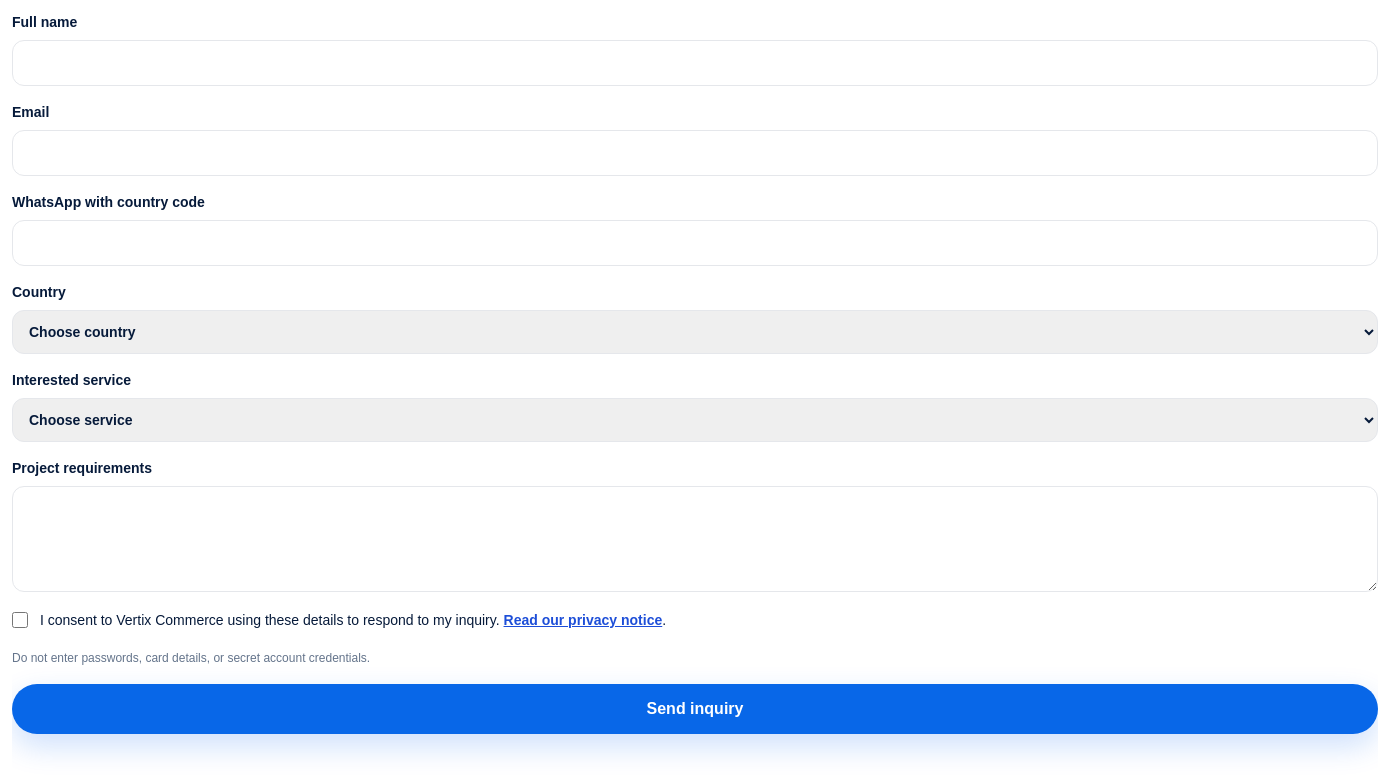
public inquiry form › handles network failure visibly and preserves fields for retry
Type "Fictional QA" into the field labelled "Full name".
click(695, 63); type("Fictional QA")  # box [12,40,1378,86]
Type "qa@example.invalid" into the field labelled "Email".
click(695, 153); type("qa@example.invalid")  # box [12,130,1378,176]
Type "+1 202 555 0100" into the field labelled "WhatsApp with country code".
click(695, 243); type("+1 202 555 0100")  # box [12,220,1378,266]
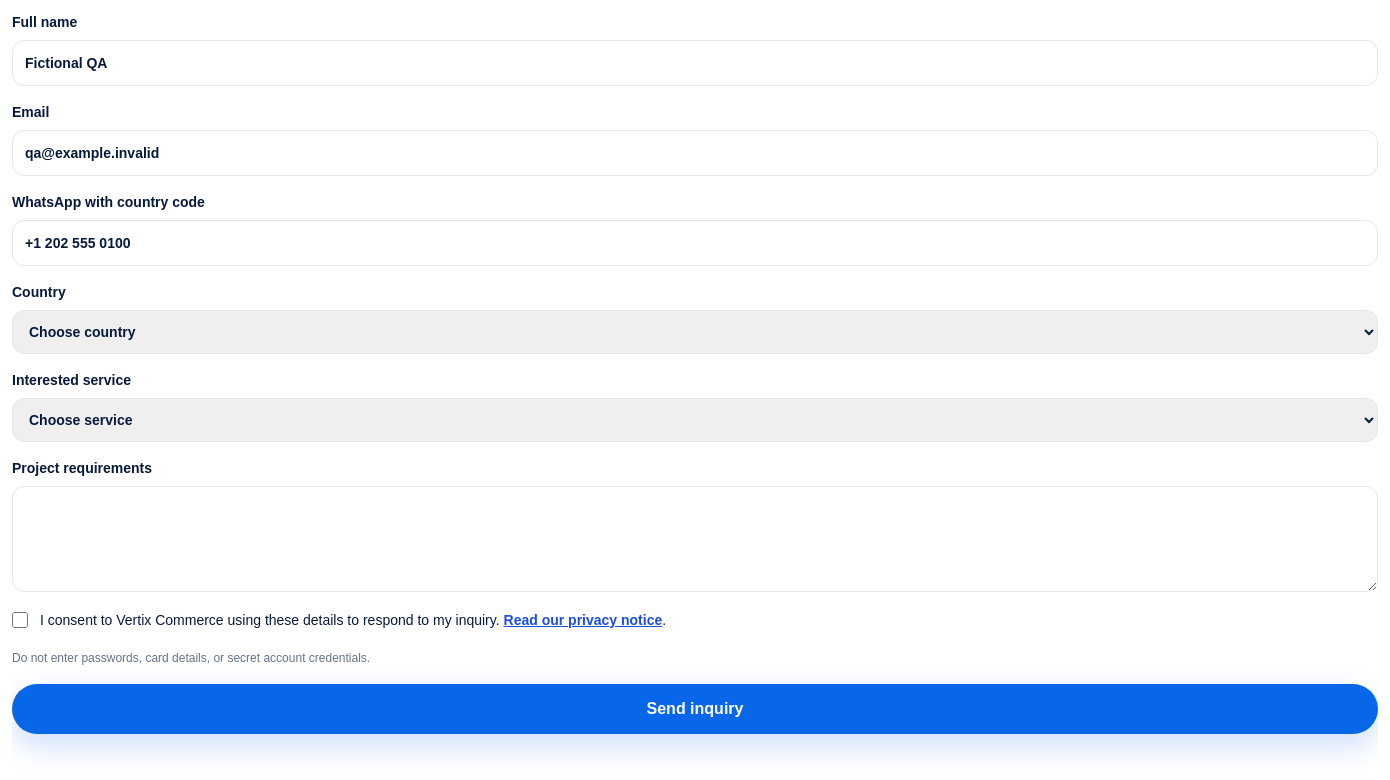
Select "Germany" in the dropdown labelled "Country" at {"x": 695, "y": 332}, box [12,310,1378,354]
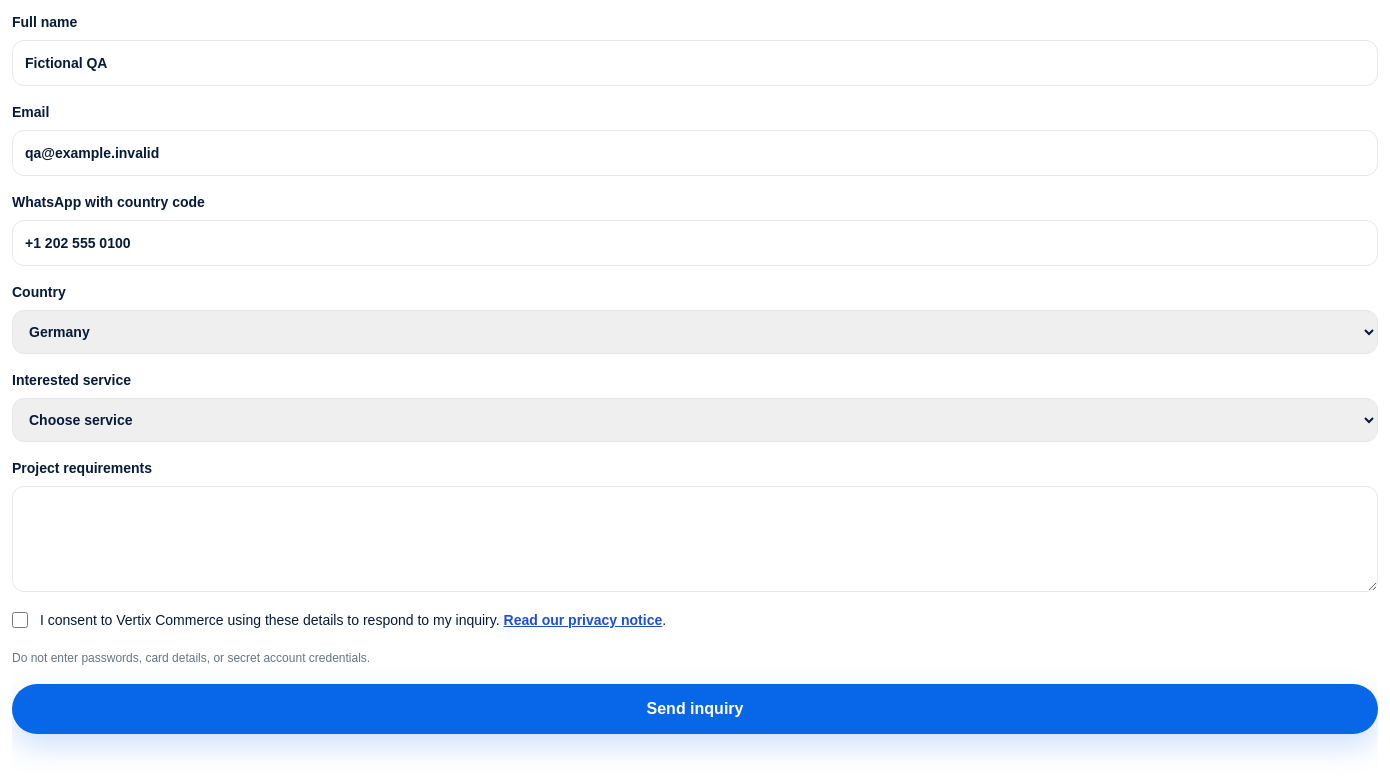
Select "Current CMS service" in the dropdown labelled "Interested service" at {"x": 695, "y": 420}, box [12,398,1378,442]
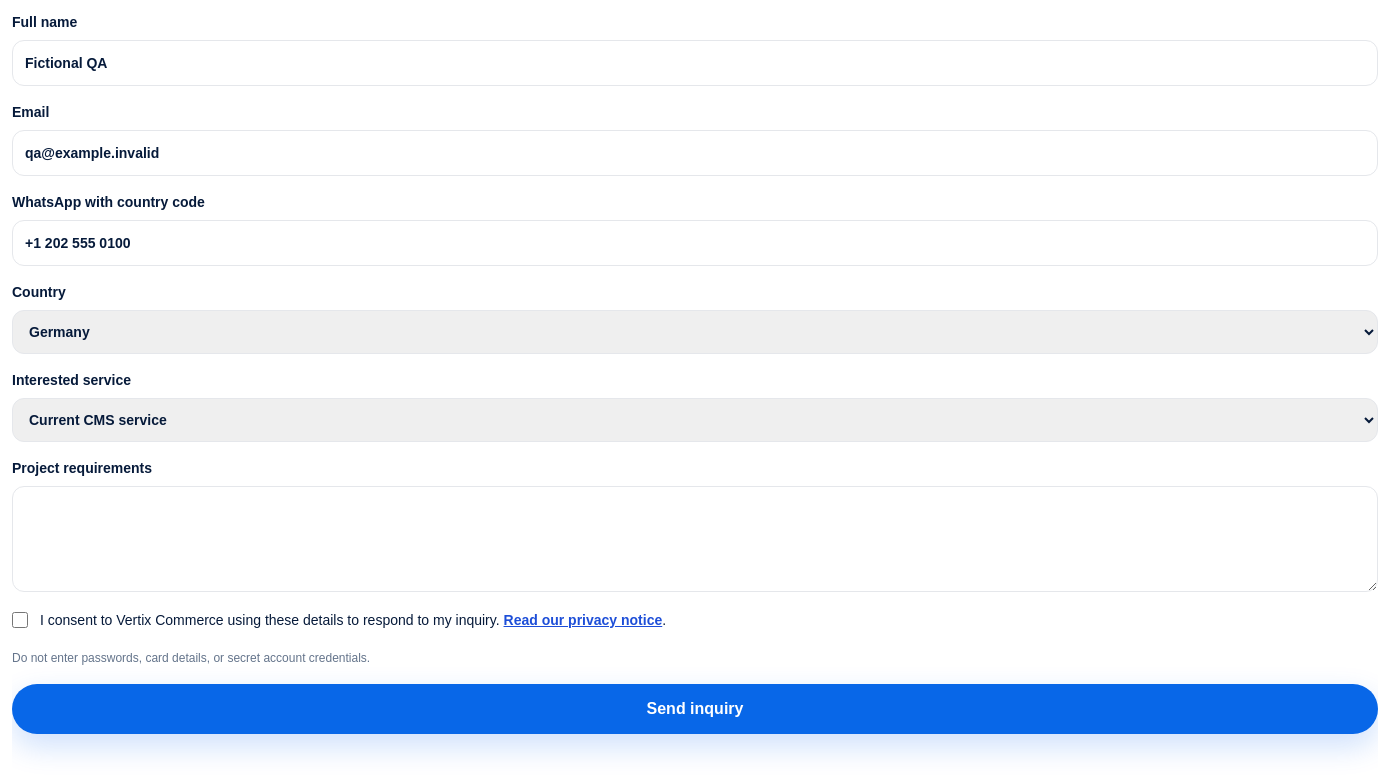
Type "Fictional QA requirements." into the text box labelled "Project requirements".
click(695, 539); type("Fictional QA requirements.")  # box [12,486,1378,592]
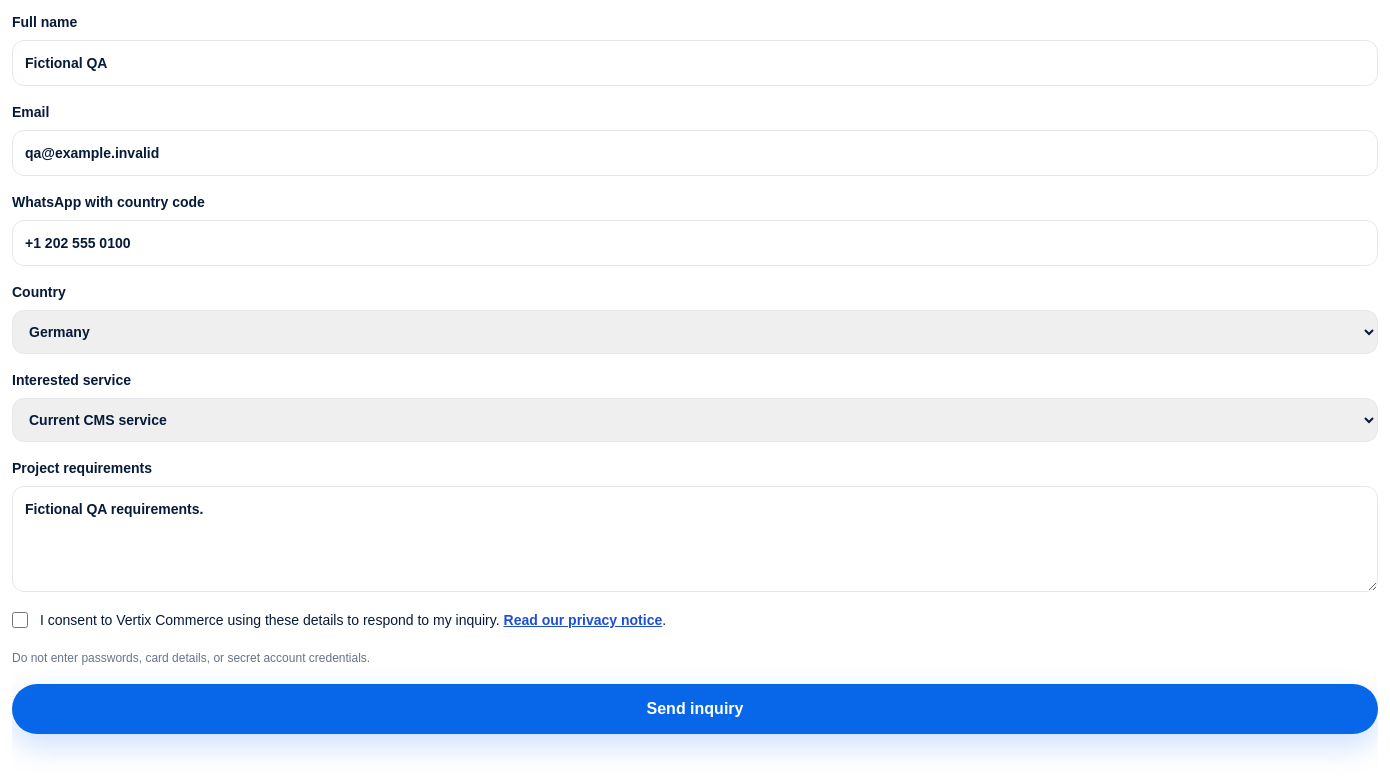
Click the checkbox.
click(20, 620)  # box [12,612,28,628]
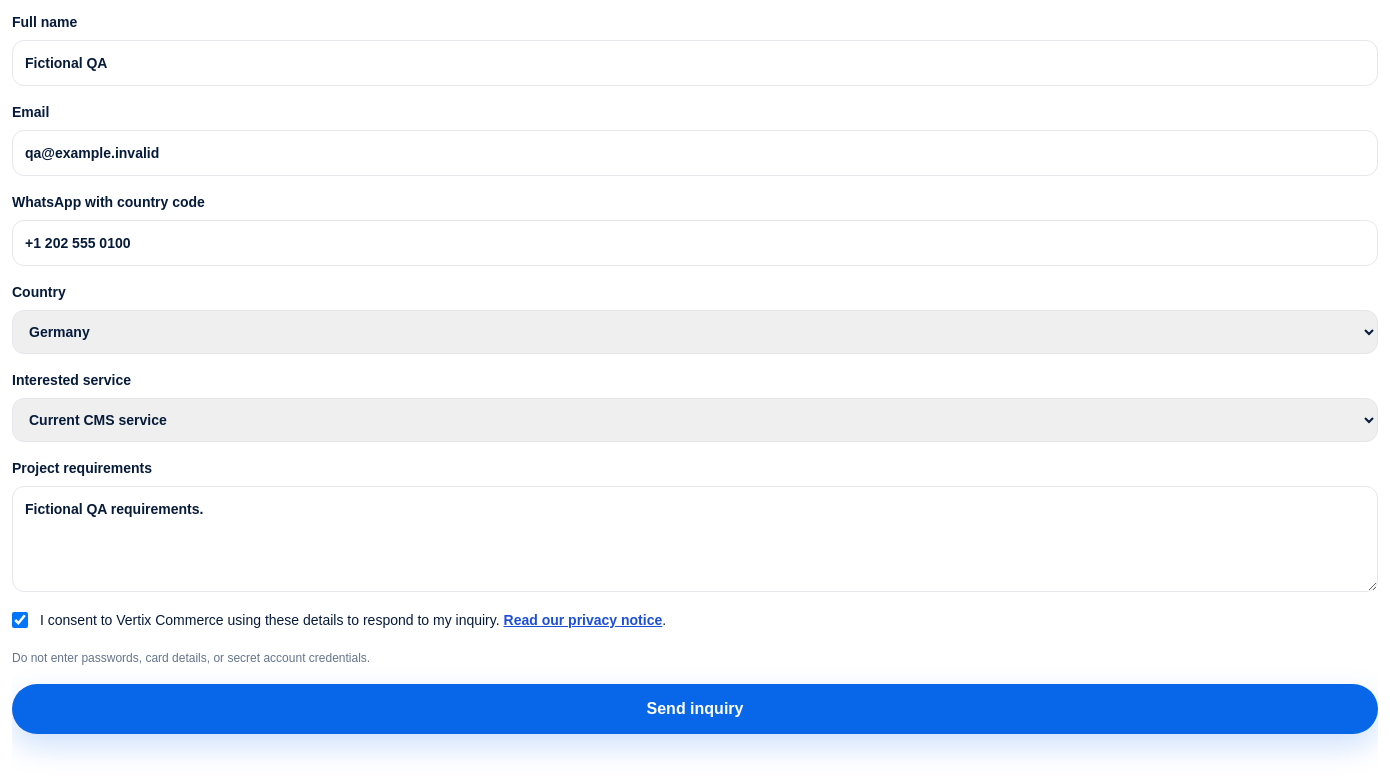
Submit the form
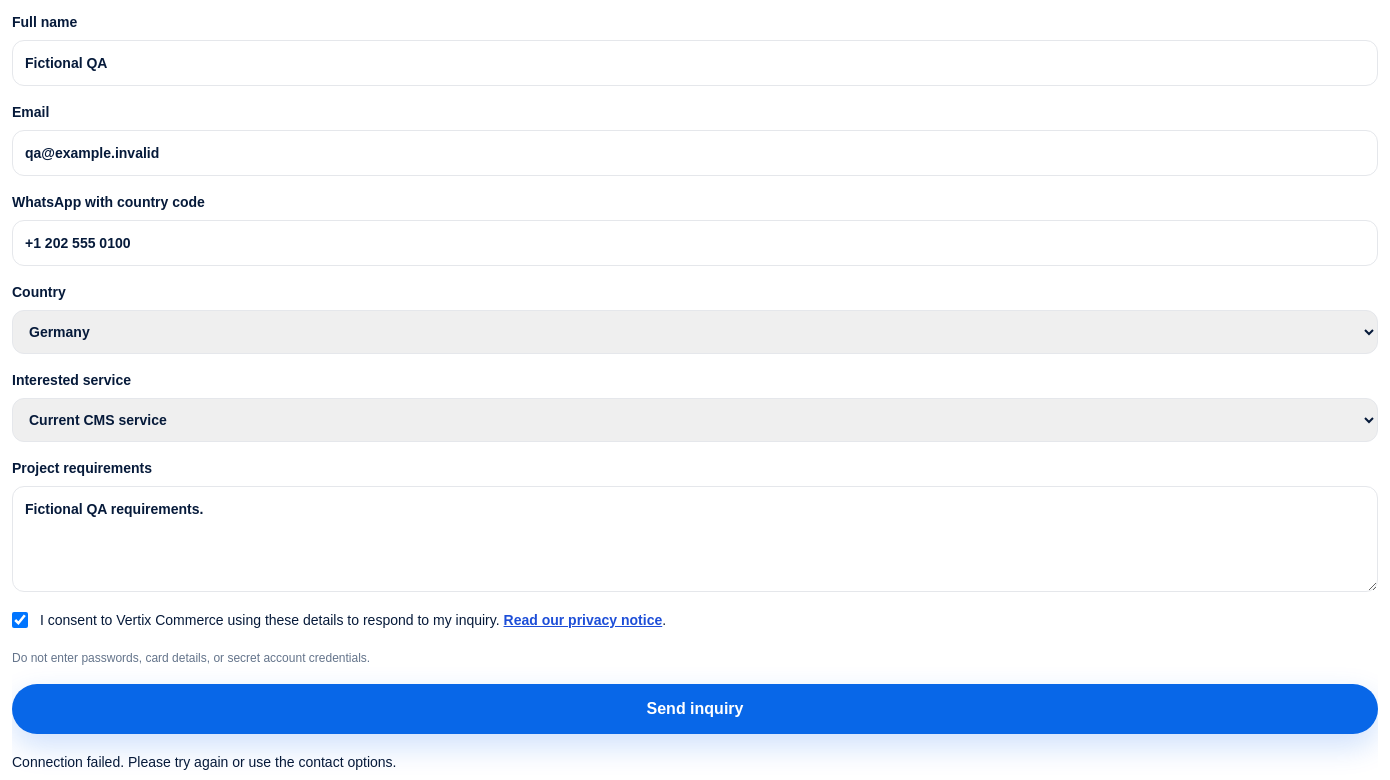
Expected: the message shows "Connection failed", [12,754,396,770]
